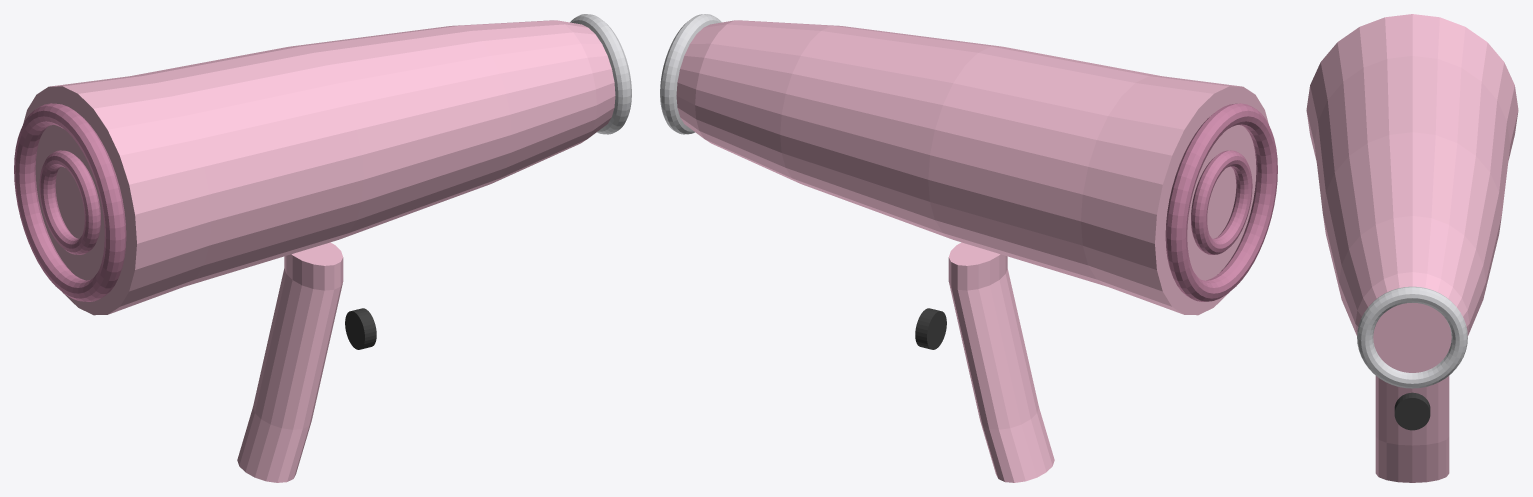
The model's file is Hair Dryer.fbx.
3 views of the same model, side by side, from view 1: azimuth 30°, elevation 25°; view 2: azimuth 150°, elevation 25°; view 3: azimuth 270°, elevation 25° (orthographic). The views are drawn at different scales.
Parts seen in each view (by area): view 1: Barrel, Handle, Torus.159, Torus.160, Torus.161, Cylinder; view 2: Barrel, Handle, Torus.159, Torus.160, Torus.161, Cylinder; view 3: Barrel, Handle, Torus.161, Cylinder.
Boxes of the visible parts, x1,y1,x2,y2 form: Barrel: (23,20,615,315); Handle: (237,242,343,482); Torus.159: (14,103,126,301); Torus.160: (39,150,100,254); Torus.161: (570,14,631,134); Cylinder: (345,308,376,349); Barrel: (676,20,1268,315); Handle: (948,242,1054,482); Torus.159: (1165,103,1277,301); Torus.160: (1191,150,1252,254); Torus.161: (660,14,721,134); Cylinder: (915,308,946,349); Barrel: (1306,14,1518,372); Handle: (1375,376,1449,482); Torus.161: (1357,286,1467,388); Cylinder: (1394,392,1430,430).
Bounding box in the file's own units: 69.2 × 51 × 26.
